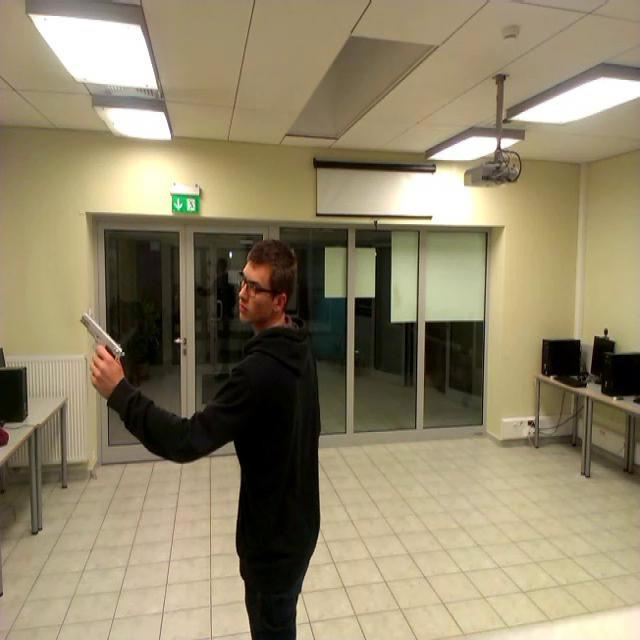weapon: (78, 316, 122, 377)
